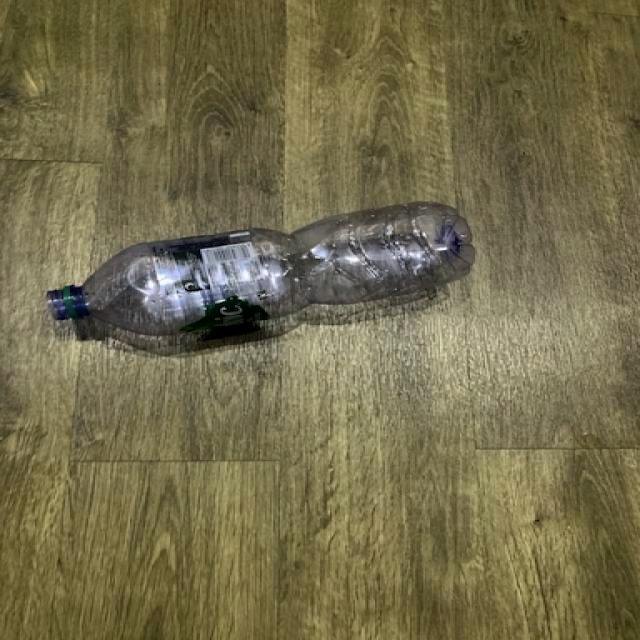bottle: (47, 201, 477, 336)
